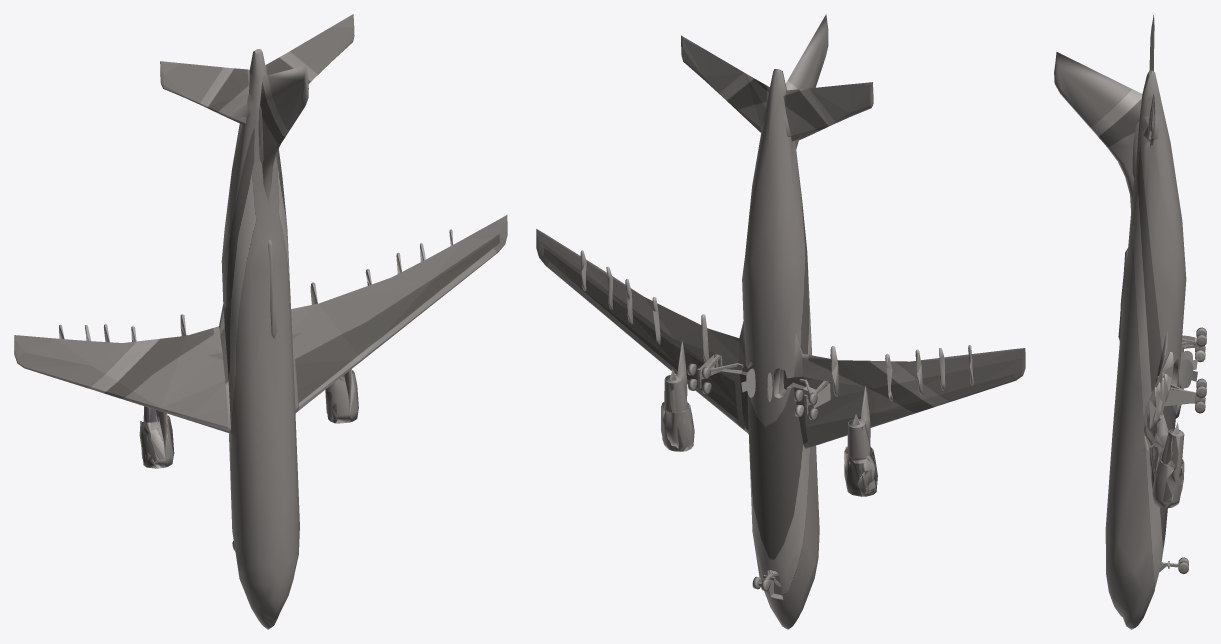
The model's file is air.fbx.
3 renders of one model, left to right at view 1: azimuth 30°, elevation 25°; view 2: azimuth 150°, elevation 25°; view 3: azimuth 270°, elevation 25°, orthographic. The views are drawn at different scales.
Parts seen in each view (by area): view 1: AirbFuse; view 2: AirbFuse; view 3: AirbFuse.
Part boxes in pixels (<box>): AirbFuse: <box>14,14,507,629</box>; AirbFuse: <box>536,14,1025,629</box>; AirbFuse: <box>1054,15,1206,629</box>.
Bounding box in the file's own units: 8.69 × 9.99 × 2.39.
Materials: 1 (1 with a texture image).
